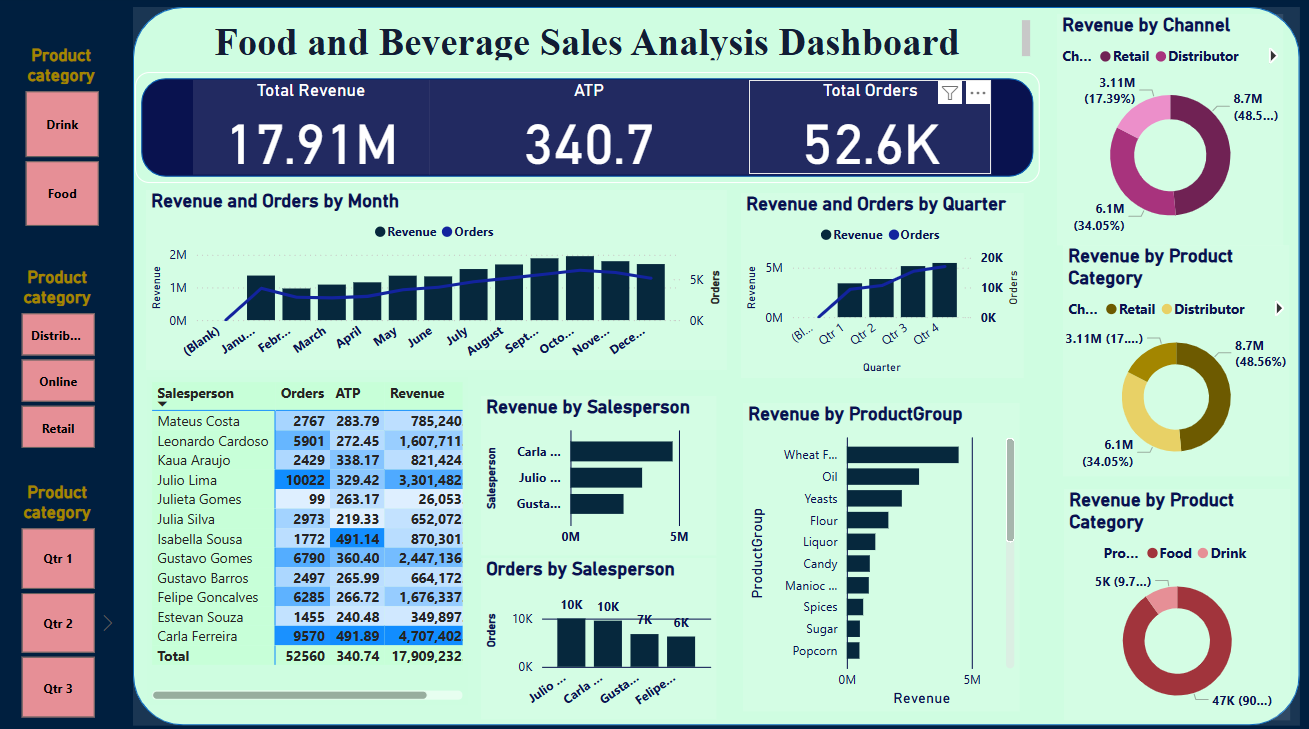

What the dashboard file says about the page in this screenshot:
{"tool":"powerbi","page":{"name":"Page 1","canvas":[1280,720],"ordinal":0},"visuals":[{"type":"shape","box":[134.4,10.9,1134.7,698.7],"z":0},{"type":"shape","box":[136,73.5,880,107.8],"z":1000},{"type":"card","title":"Total Revenue","fields":{"Values":["Product.Revenue"]},"box":[192.2,81.3,229.8,92.2],"z":2000},{"type":"card","title":"ATP","fields":{"Values":["Product.ATP"]},"box":[422,81.3,311,92.2],"z":3000},{"type":"card","title":"Total Orders","fields":{"Values":["Product.Orders"]},"box":[733,81.3,236,92.2],"z":4000},{"type":"donutChart","fields":{"Y":["Product.Revenue"],"Category":["Sheet1.Channel"]},"box":[1032.6,17.2,220.4,225.1],"z":5000},{"type":"donutChart","title":"Revenue by Product Category","fields":{"Y":["Product.Revenue"],"Category":["Sheet1.Channel"]},"box":[1038.3,241.7,220.4,225.1],"z":6000},{"type":"donutChart","title":"Revenue by Product Category","fields":{"Category":["Product.ProductCategory"],"Y":["Product.Orders"]},"box":[1039.9,479.8,220.4,225.1],"z":7000},{"type":"lineStackedColumnComboChart","fields":{"Y":["Product.Revenue"],"Y2":["Product.Orders"],"Category":["Sheet1.OrderDate.Variation.Date Hierarchy.Quarter"]},"box":[725.7,191.2,275.1,179.7],"z":8000},{"type":"barChart","fields":{"Y":["Product.Revenue"],"Category":["Product.ProductGroup"]},"box":[727.3,395.4,268.8,300.1],"z":9000},{"type":"lineStackedColumnComboChart","fields":{"Y":["Product.Revenue"],"Y2":["Product.Orders"],"Category":["Sheet1.OrderDate.Variation.Date Hierarchy.Month"]},"box":[146.9,189.1,564.8,174.5],"z":10000},{"type":"barChart","fields":{"Y":["Product.Revenue"],"Category":["Sheet1.Salesperson"]},"box":[472.4,389.3,228.7,155],"z":11000},{"type":"clusteredColumnChart","fields":{"Y":["Product.Orders"],"Category":["Sheet1.Salesperson"]},"box":[472.4,546.1,228.7,156.9],"z":12000},{"type":"pivotTable","fields":{"Rows":["Sheet1.Salesperson"],"Values":["Product.Orders","Product.ATP","Product.Revenue"]},"box":[147.4,370.4,311.8,319.4],"z":13000},{"type":"slicer","title":"Product category","fields":{"Values":["Product.ProductCategory"]},"box":[3.8,47.2,120.9,183.3],"z":14000},{"type":"slicer","title":"Product category","fields":{"Values":["Sheet1.Channel"]},"box":[0,263.3,120.9,183.3],"z":14001},{"type":"slicer","title":"Product category","fields":{"Values":["Sheet1.OrderDate.Variation.Date Hierarchy.Quarter"]},"box":[0,472.4,120.9,236.2],"z":14002},{"type":"textbox","box":[147.4,18.9,864.3,49.1],"z":14003}]}

Visuals, with their boxes in screenshot pixels (x1, y1, x2, y2), scaled from the page's 1280x720 canvas onto the 1309x729 screenshot:
shape: rect(137, 11, 1298, 718)
shape: rect(139, 74, 1039, 184)
"Total Revenue" card: rect(197, 82, 432, 176)
"ATP" card: rect(432, 82, 750, 176)
"Total Orders" card: rect(750, 82, 991, 176)
donutChart - Product.Revenue x Sheet1.Channel: rect(1056, 17, 1281, 245)
"Revenue by Product Category" donutChart: rect(1062, 245, 1287, 473)
"Revenue by Product Category" donutChart: rect(1063, 486, 1289, 714)
lineStackedColumnComboChart - Product.Revenue x Product.Orders: rect(742, 194, 1023, 376)
barChart - Product.Revenue x Product.ProductGroup: rect(744, 400, 1019, 704)
lineStackedColumnComboChart - Product.Revenue x Product.Orders: rect(150, 191, 728, 368)
barChart - Product.Revenue x Sheet1.Salesperson: rect(483, 394, 717, 551)
clusteredColumnChart - Product.Orders x Sheet1.Salesperson: rect(483, 553, 717, 712)
pivotTable - Sheet1.Salesperson x Product.Orders: rect(151, 375, 470, 698)
"Product category" slicer: rect(4, 48, 128, 233)
"Product category" slicer: rect(0, 267, 124, 452)
"Product category" slicer: rect(0, 478, 124, 717)
textbox: rect(151, 19, 1035, 69)
